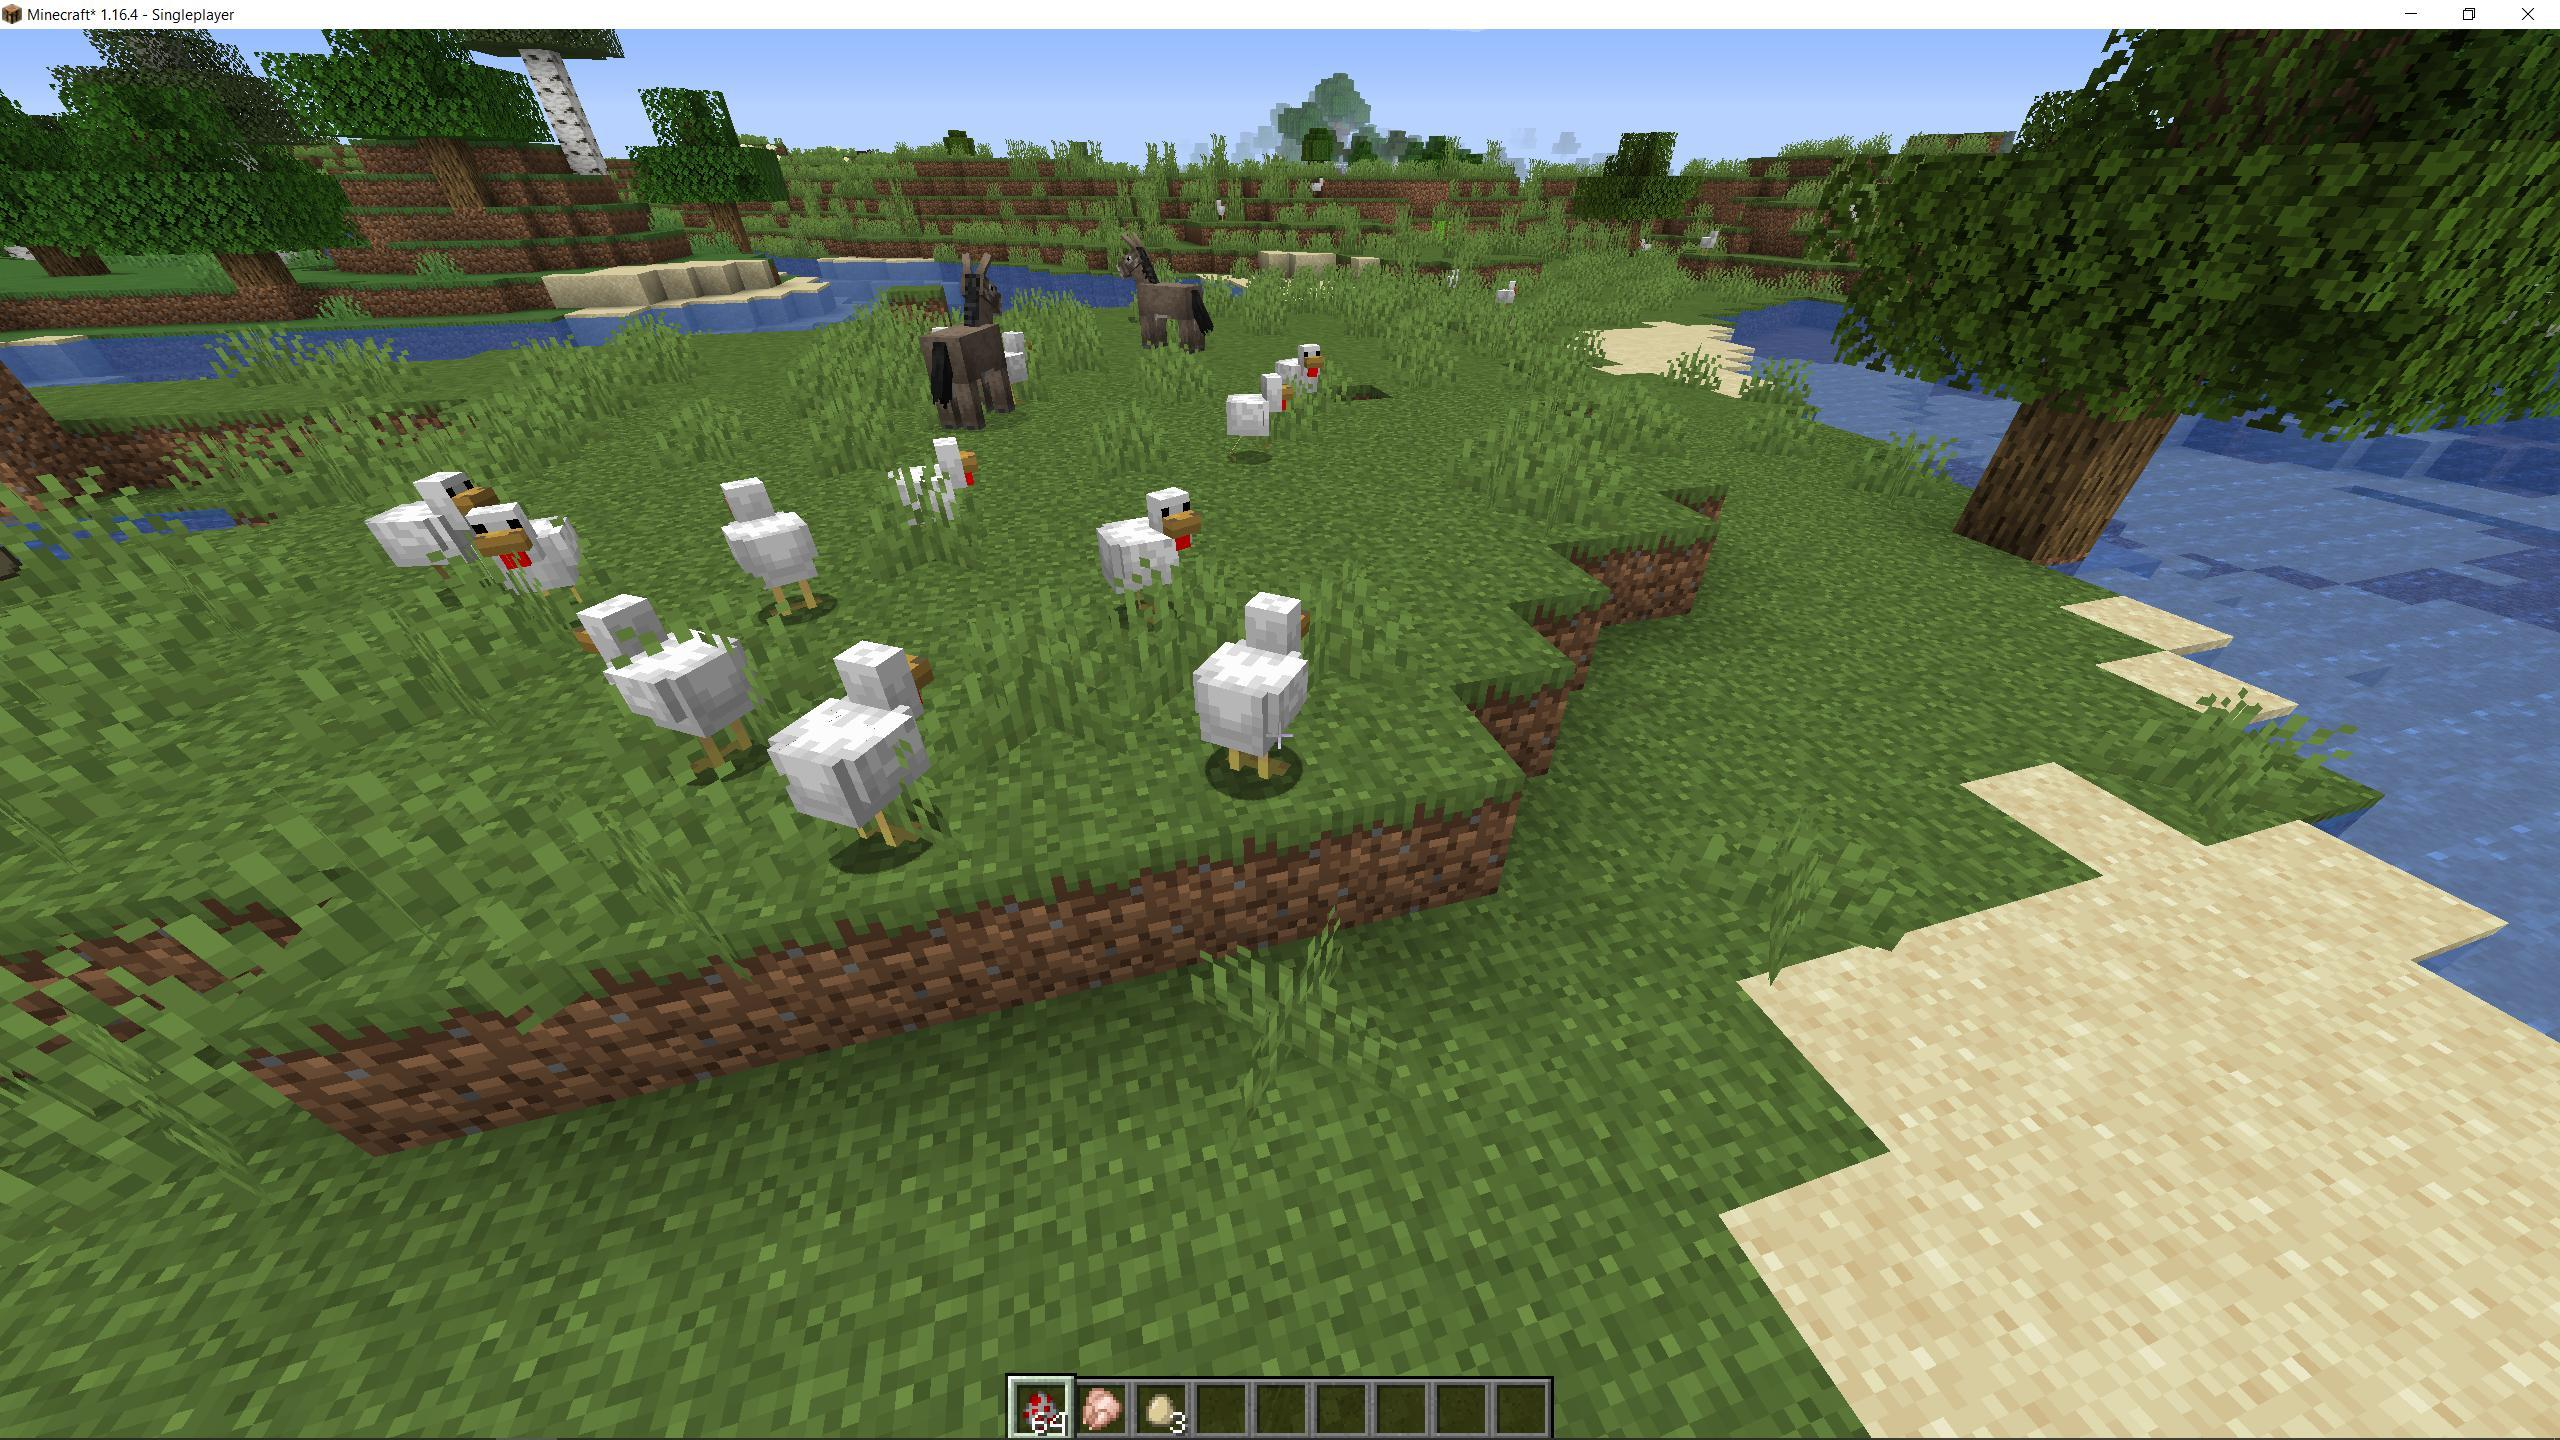chicken: (768, 640, 942, 862), (566, 591, 761, 774), (1194, 591, 1326, 802), (714, 469, 830, 621), (362, 461, 473, 591), (464, 498, 594, 607), (1099, 485, 1206, 601), (888, 431, 988, 540), (1224, 369, 1287, 455), (1273, 338, 1333, 399)
